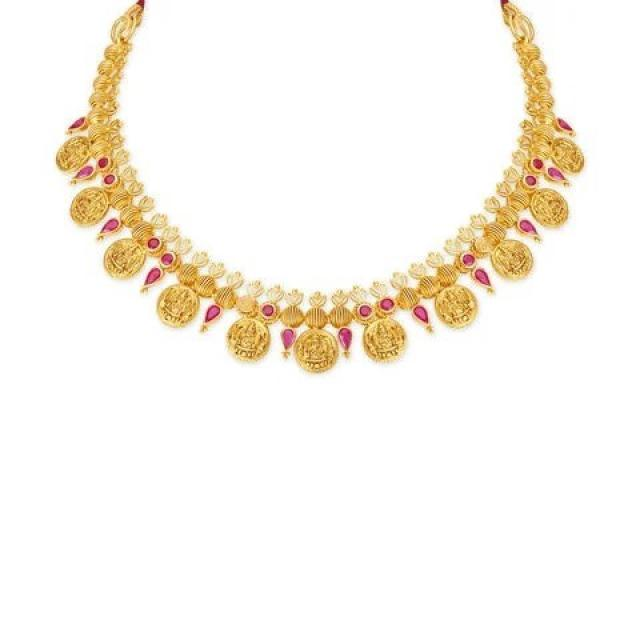missing gem: (238, 295, 254, 312), (476, 240, 487, 252)
